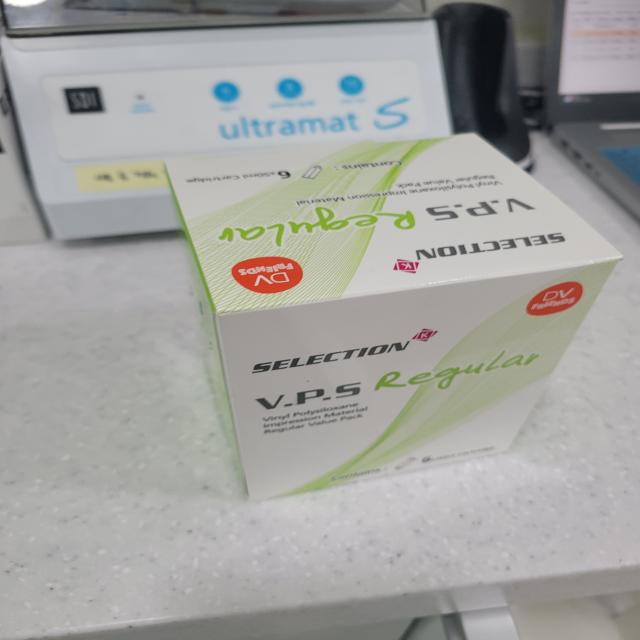impression: (137, 122, 640, 517)
